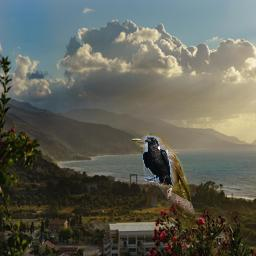Crow: (142, 136, 174, 187)
Cuckoo: (130, 133, 198, 231)
